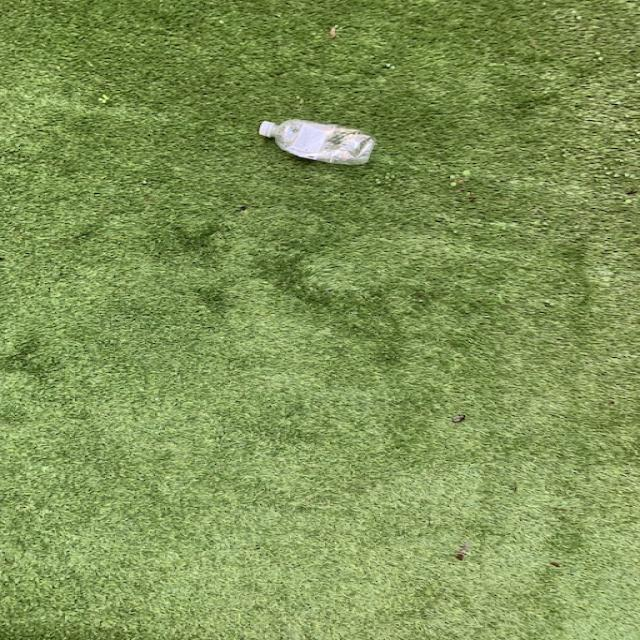Plastic: (259, 119, 376, 164)
